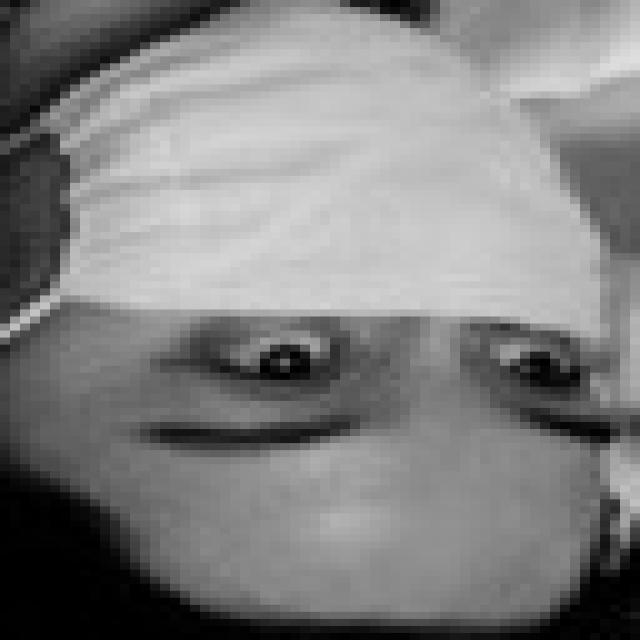Mask: (24, 12, 606, 373)
